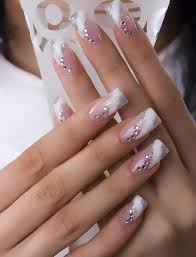nail: (121, 107, 163, 143), (87, 87, 130, 121), (131, 138, 169, 176), (103, 1, 139, 39), (68, 9, 101, 43), (50, 39, 76, 72), (123, 195, 147, 226), (50, 96, 70, 122)
